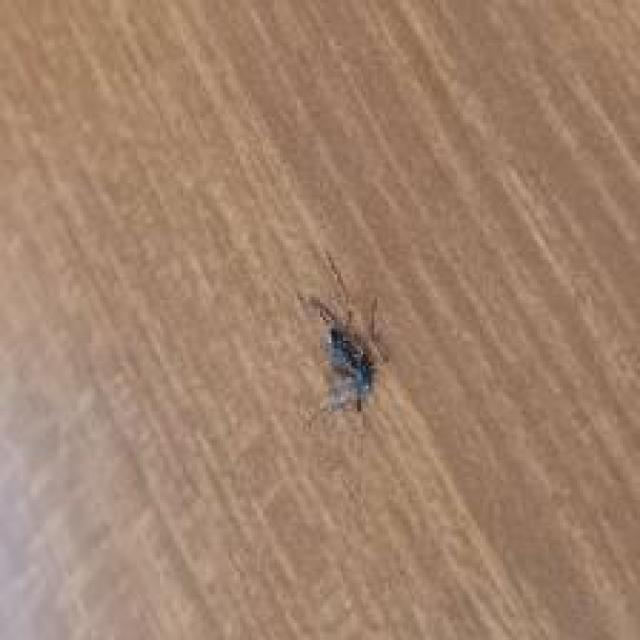Aedes albopictus: (294, 249, 392, 417)
